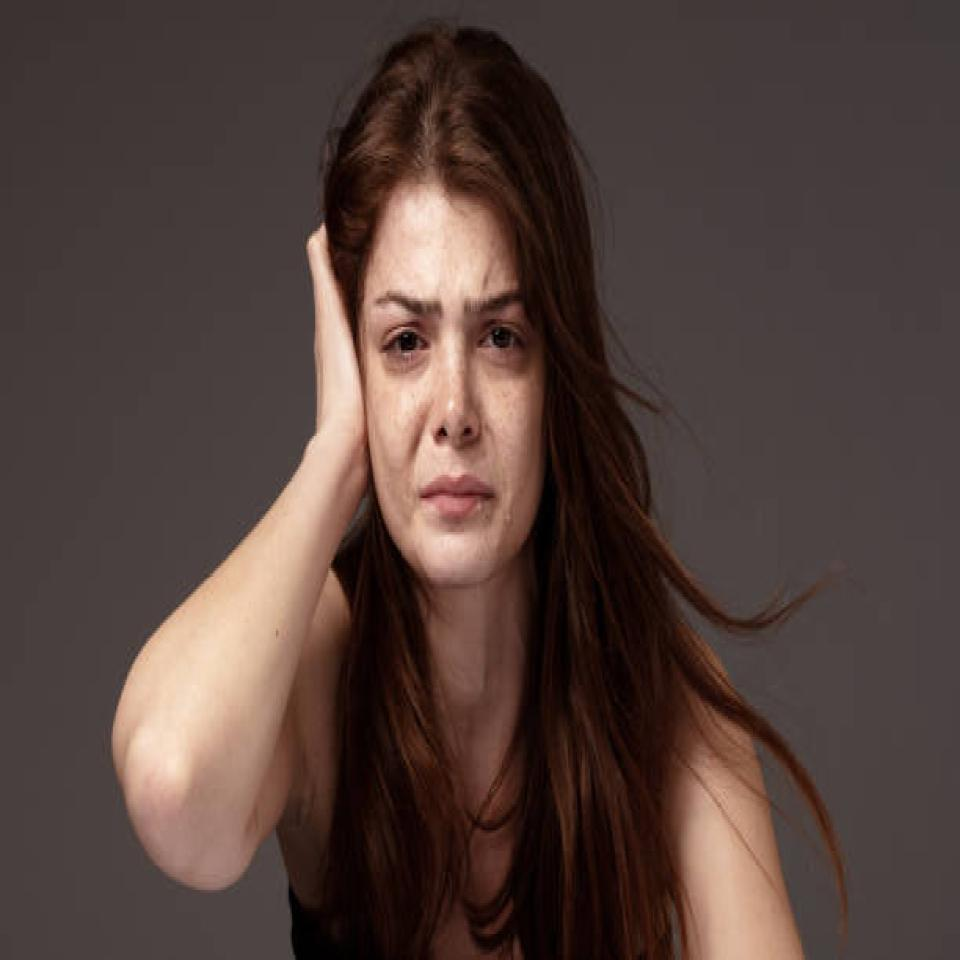Sadness: (355, 231, 553, 581)
